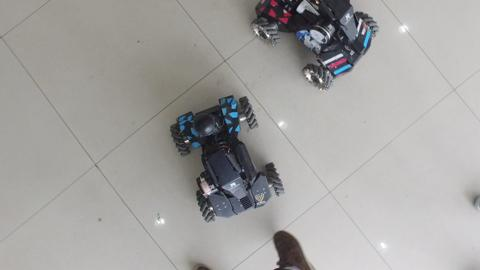chariot: (170, 92, 293, 227), (251, 1, 386, 94)
